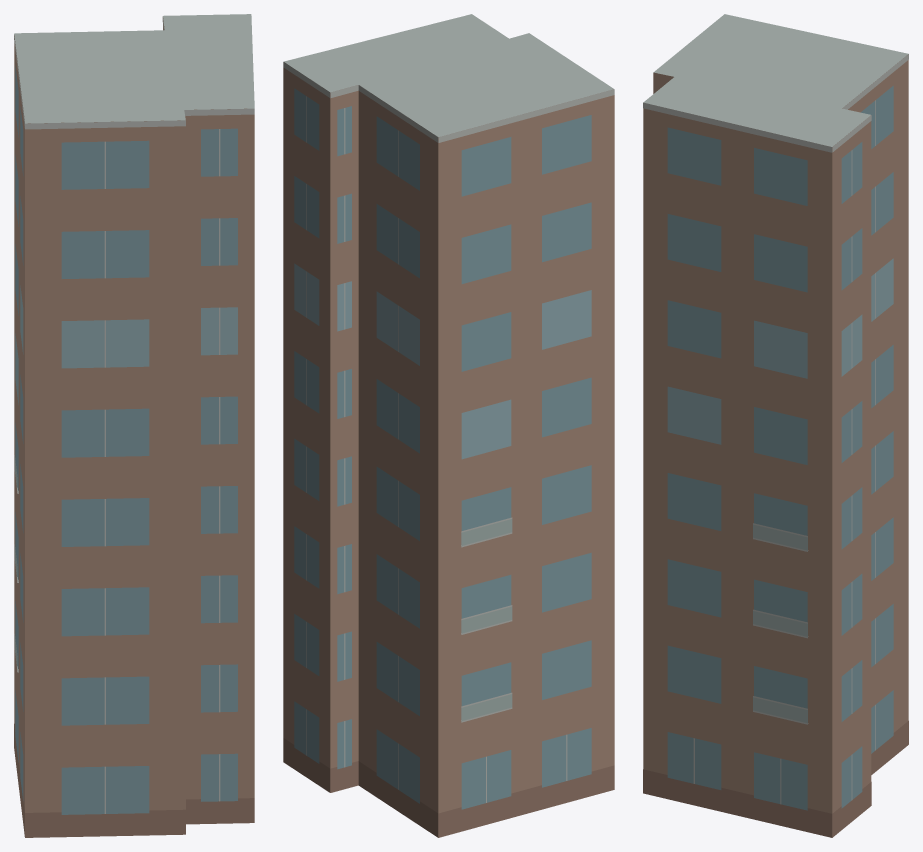
The model's file is survey-upis-32713623.glb.
3 views of the same model, side by side, from view 1: azimuth 30°, elevation 25°; view 2: azimuth 150°, elevation 25°; view 3: azimuth 270°, elevation 25° (orthographic). The views are drawn at different scales.
Visible parts, largest first — view 1: survey-upis-32713623.tmp; view 2: survey-upis-32713623.tmp; view 3: survey-upis-32713623.tmp.
Boxes of the visible parts, bbox=[...] form: survey-upis-32713623.tmp: bbox=[14, 14, 254, 837]; survey-upis-32713623.tmp: bbox=[283, 14, 614, 837]; survey-upis-32713623.tmp: bbox=[643, 14, 908, 837].
Size of the model in its own units: 12.07 by 29.2 by 10.18.
